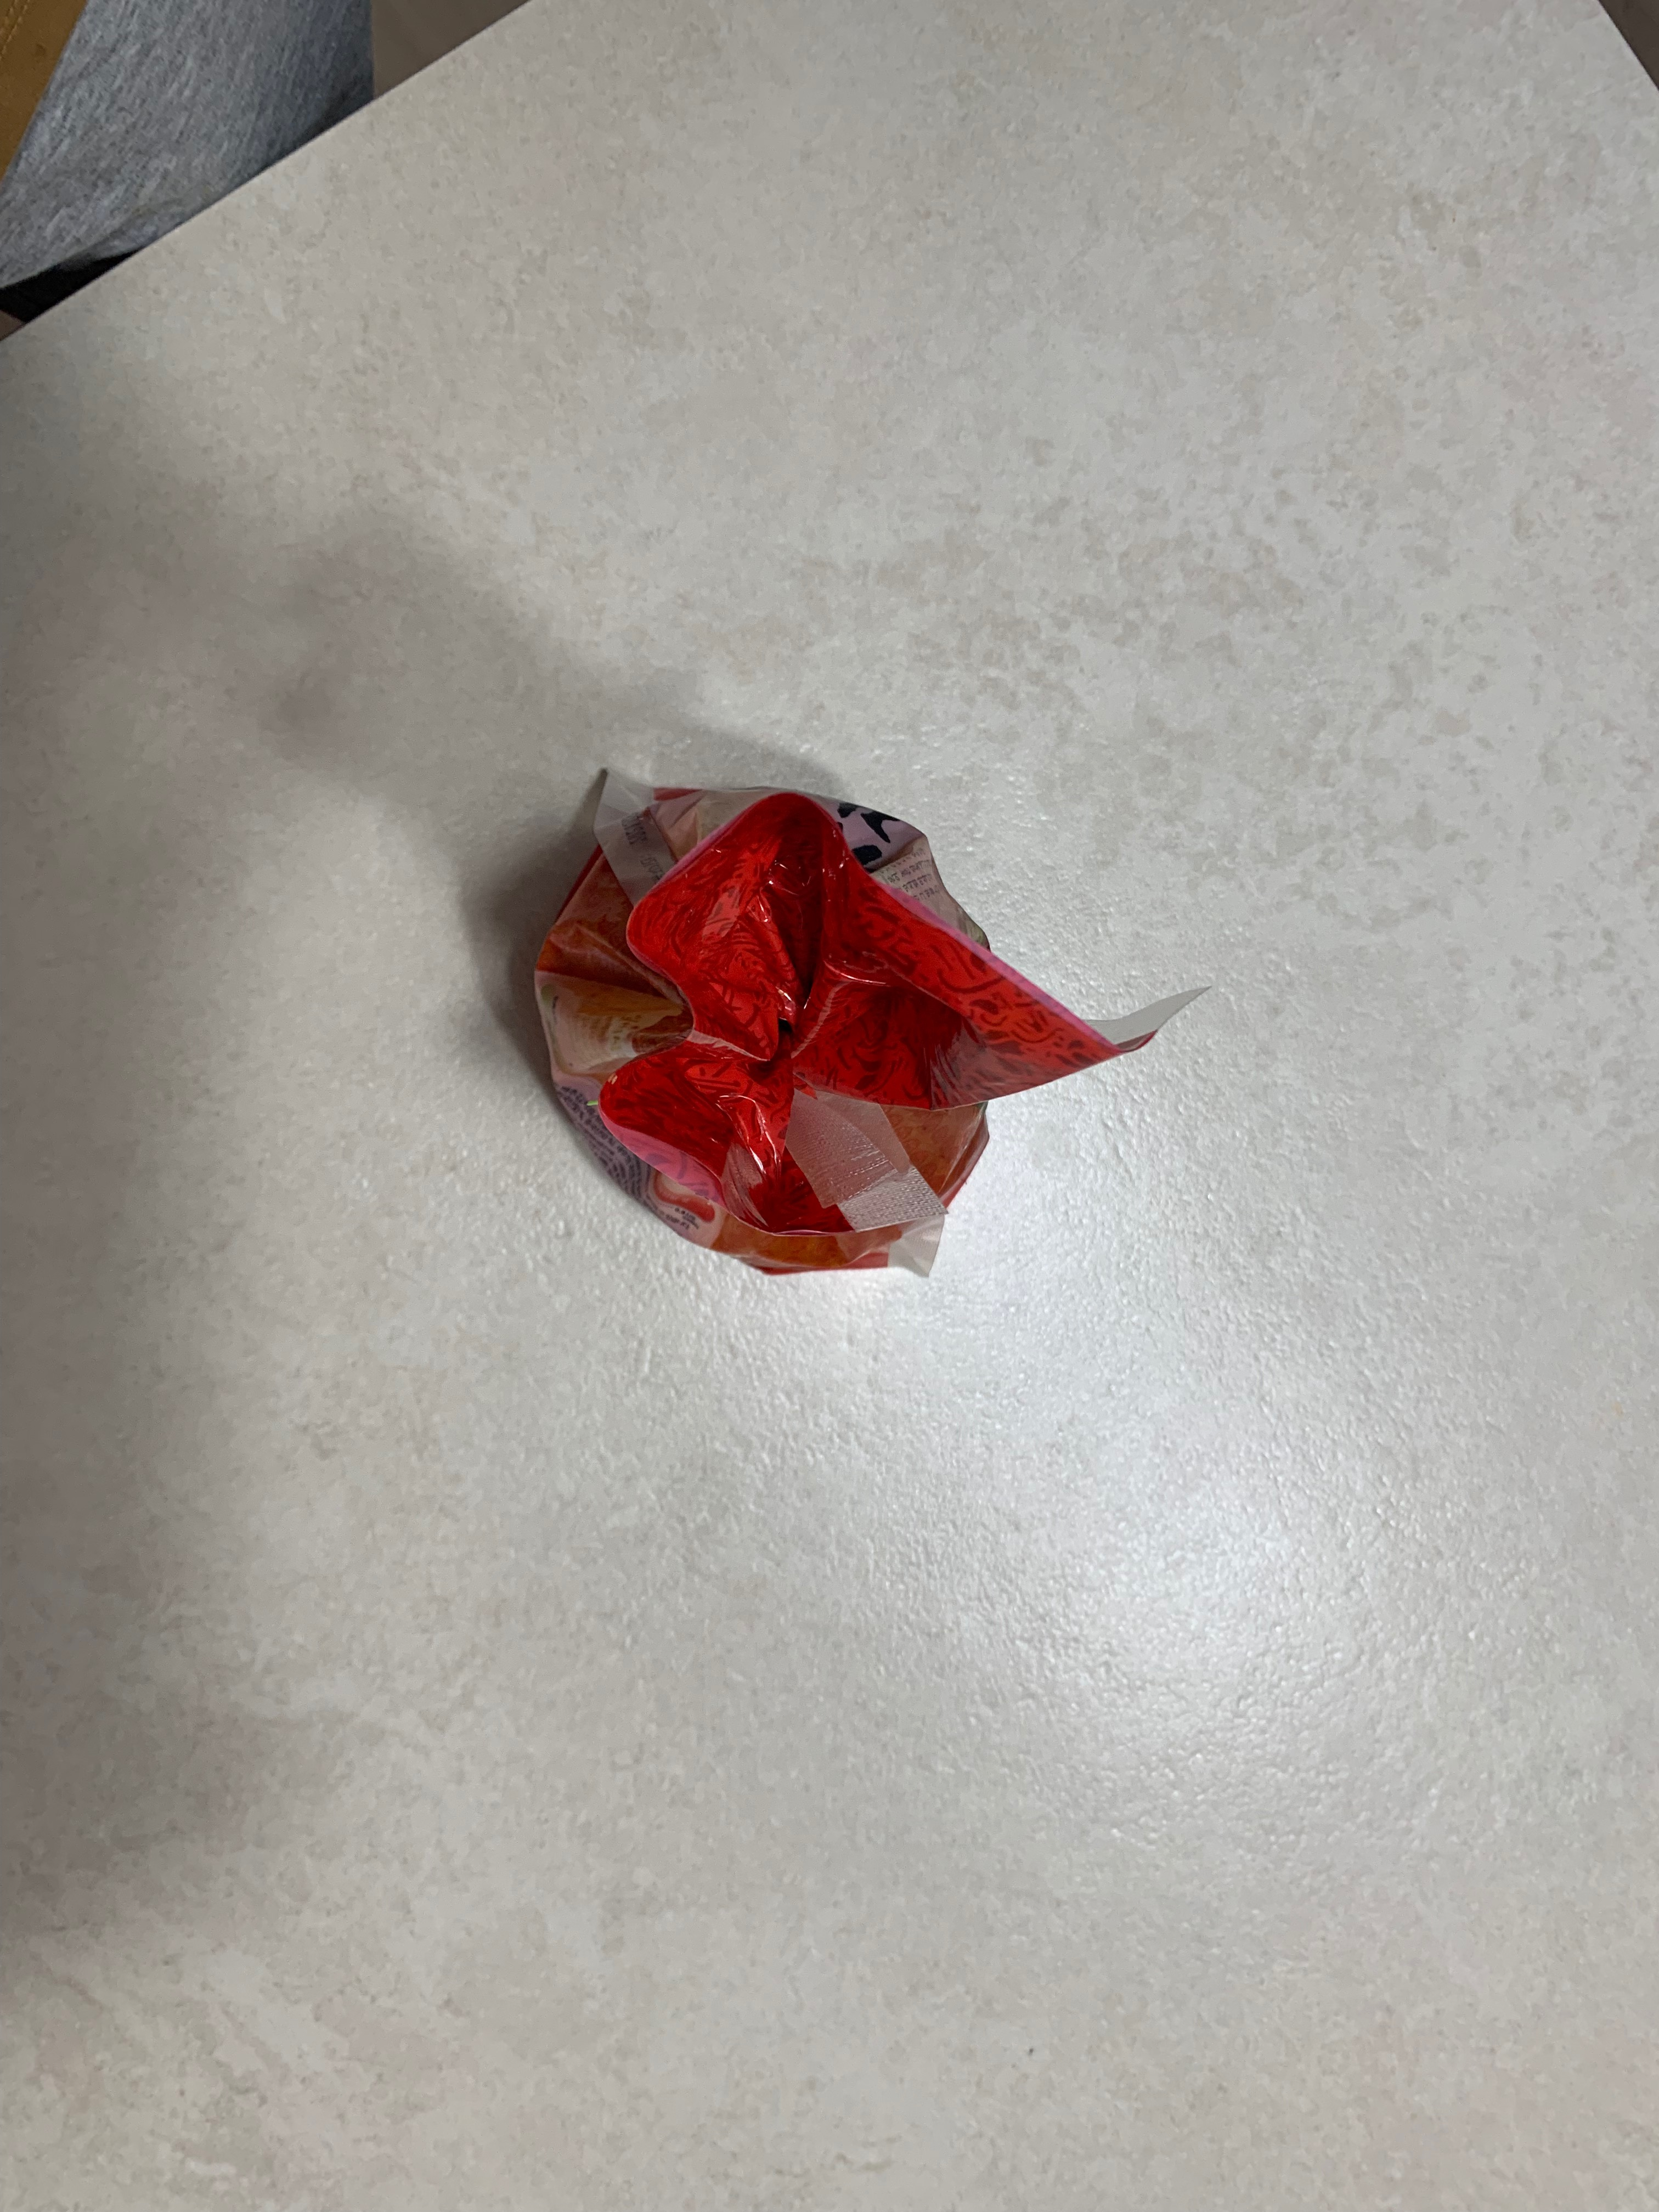kimchi: (523, 768, 1155, 1287)
